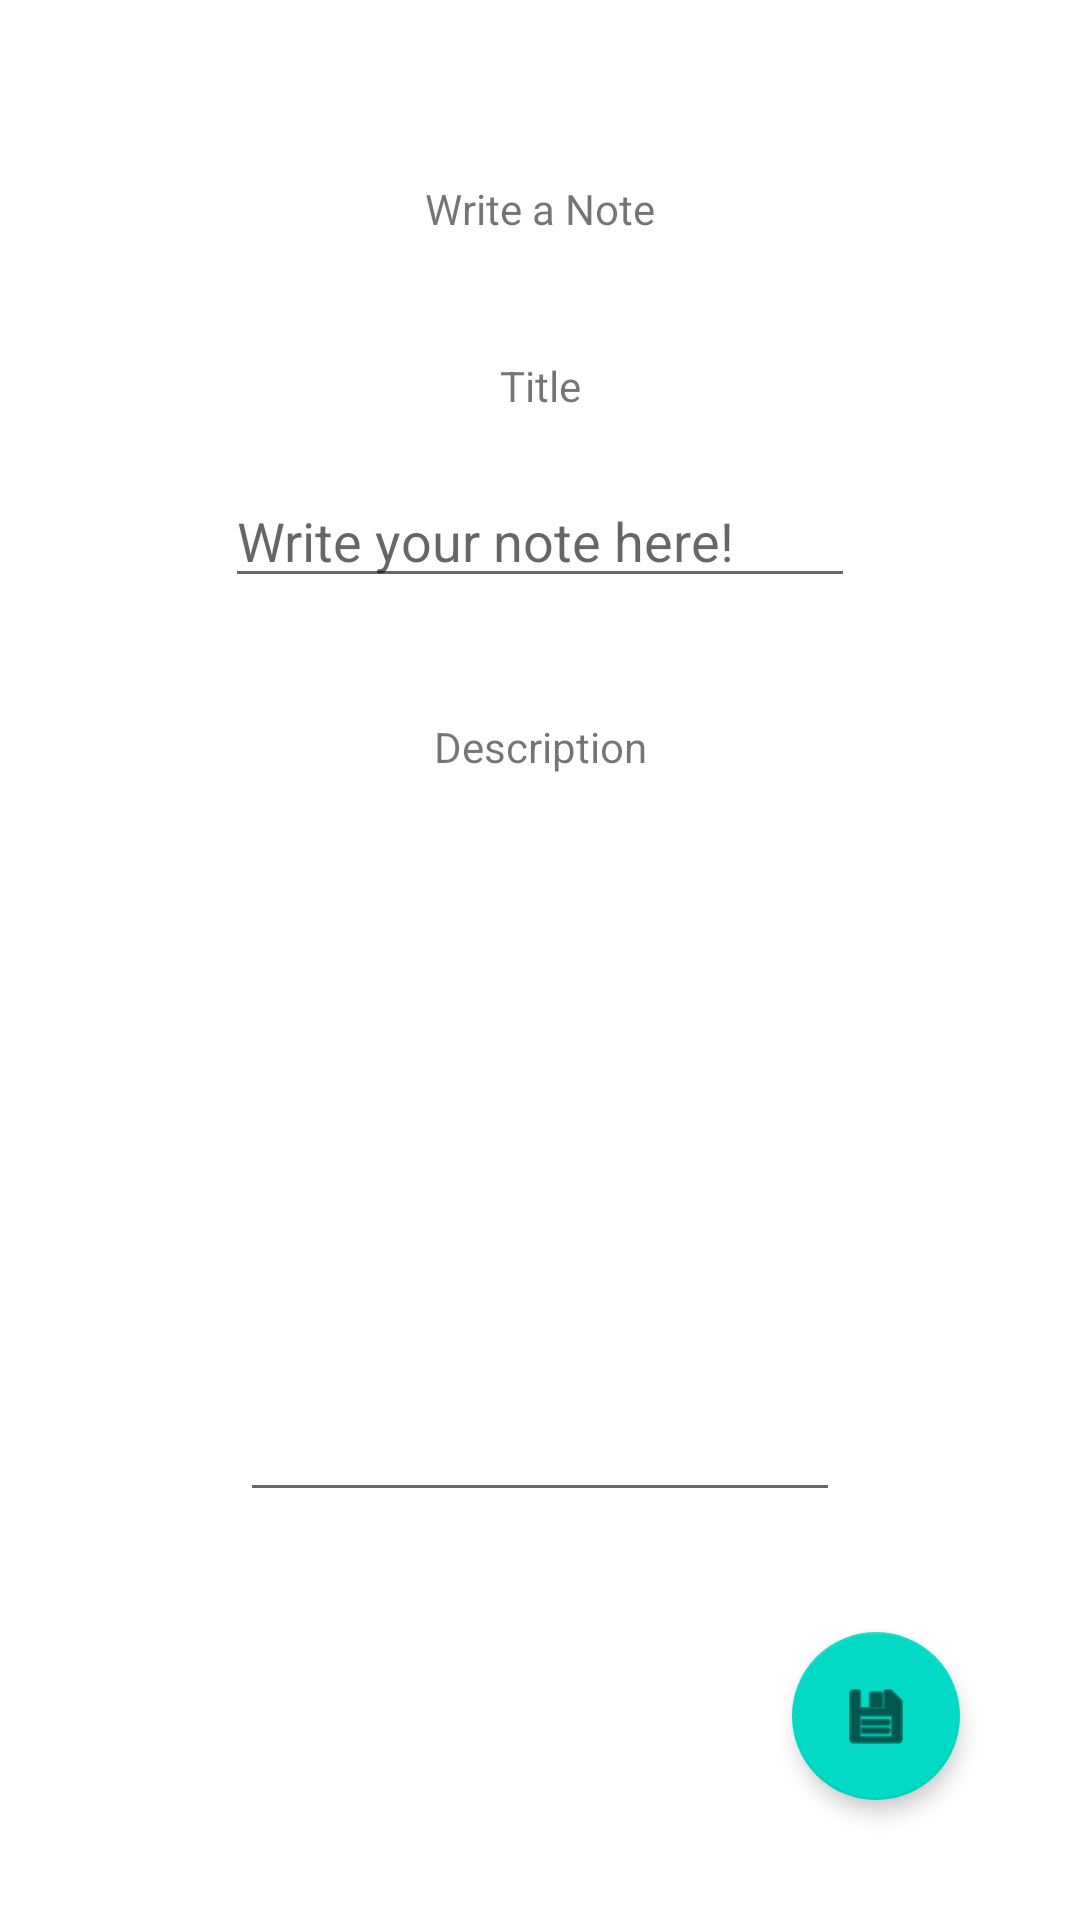

Icon click points for this 1080px×1920px phone screenshot, format [x,y]:
Save Note: [876,1716]
